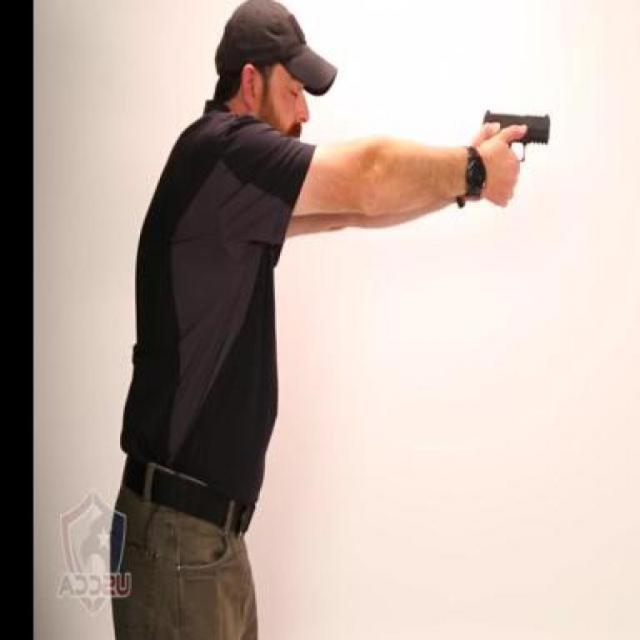pistol: (470, 106, 555, 200)
